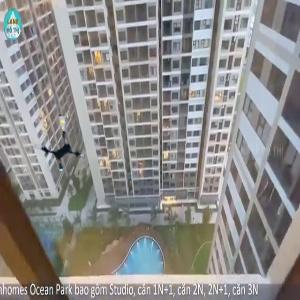drone: (32, 116, 88, 172)
